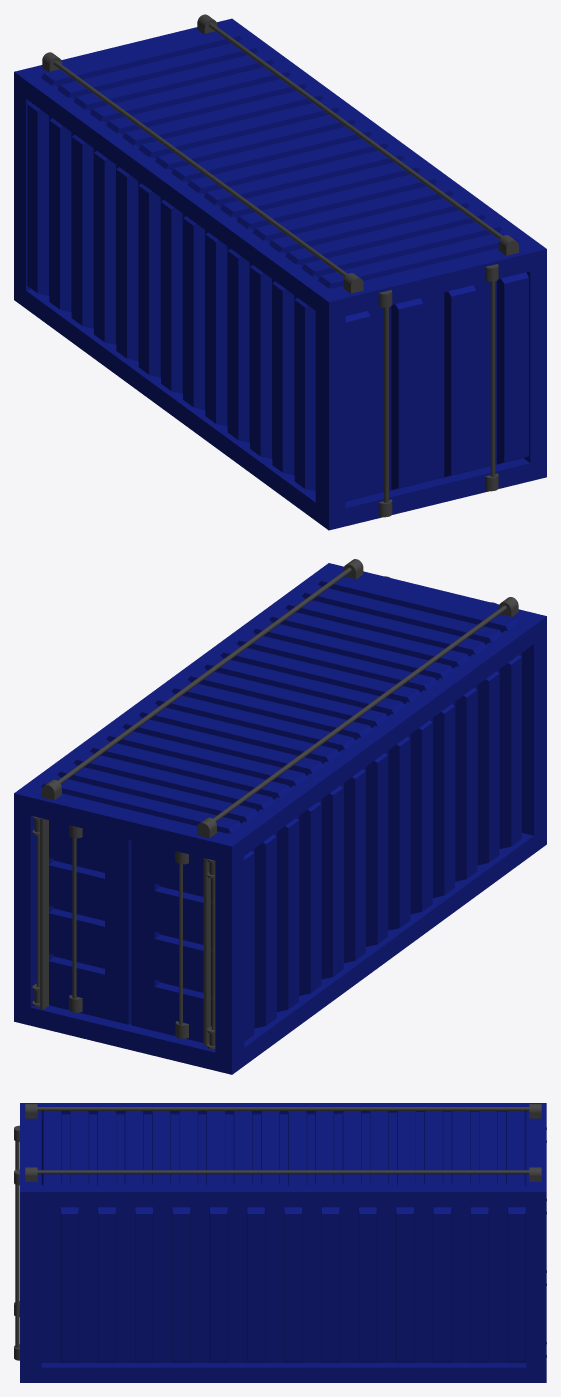
File: ContainerBiru.obj
3 renders of one model, top to bottom at view 1: azimuth 30°, elevation 25°; view 2: azimuth 150°, elevation 25°; view 3: azimuth 270°, elevation 25°, orthographic. The views are drawn at different scales.
Visible parts, largest first — view 1: ContainerBiru; view 2: ContainerBiru; view 3: ContainerBiru.
Part boxes in pixels (box(x1,y1,x2,y2)): ContainerBiru: box(14, 14, 546, 530); ContainerBiru: box(14, 559, 546, 1074); ContainerBiru: box(14, 1103, 546, 1382).
Size of the model in its own units: 6.04 by 6.4 by 15.28.
